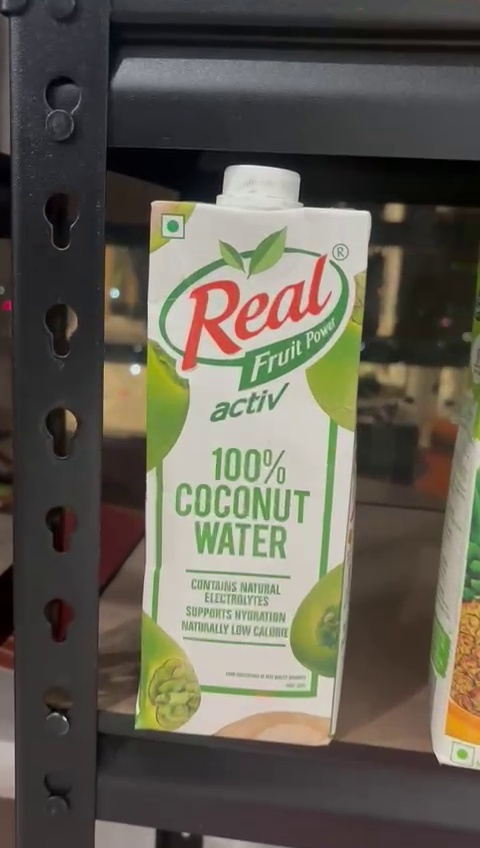Coconut water: (129, 164, 375, 736)
